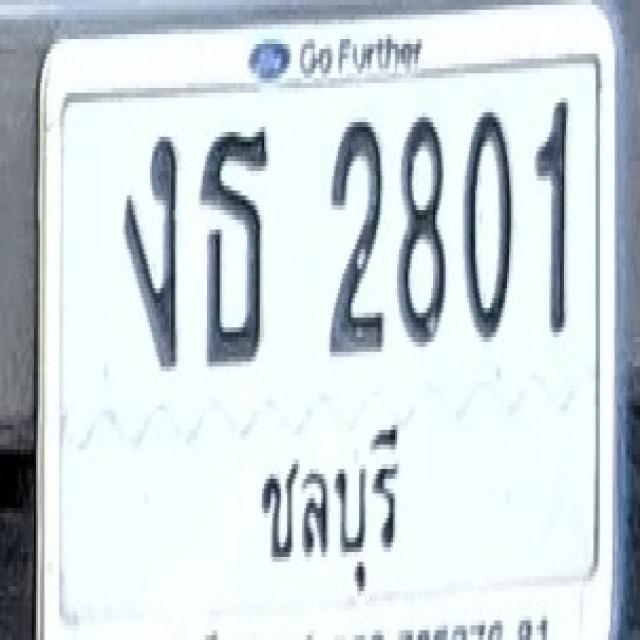0: (462, 105, 512, 340)
1: (534, 95, 570, 335)
2: (328, 112, 384, 352)
8: (395, 110, 446, 344)
A07: (122, 127, 178, 366)
A24: (199, 120, 268, 364)
CBI: (248, 413, 408, 606)
